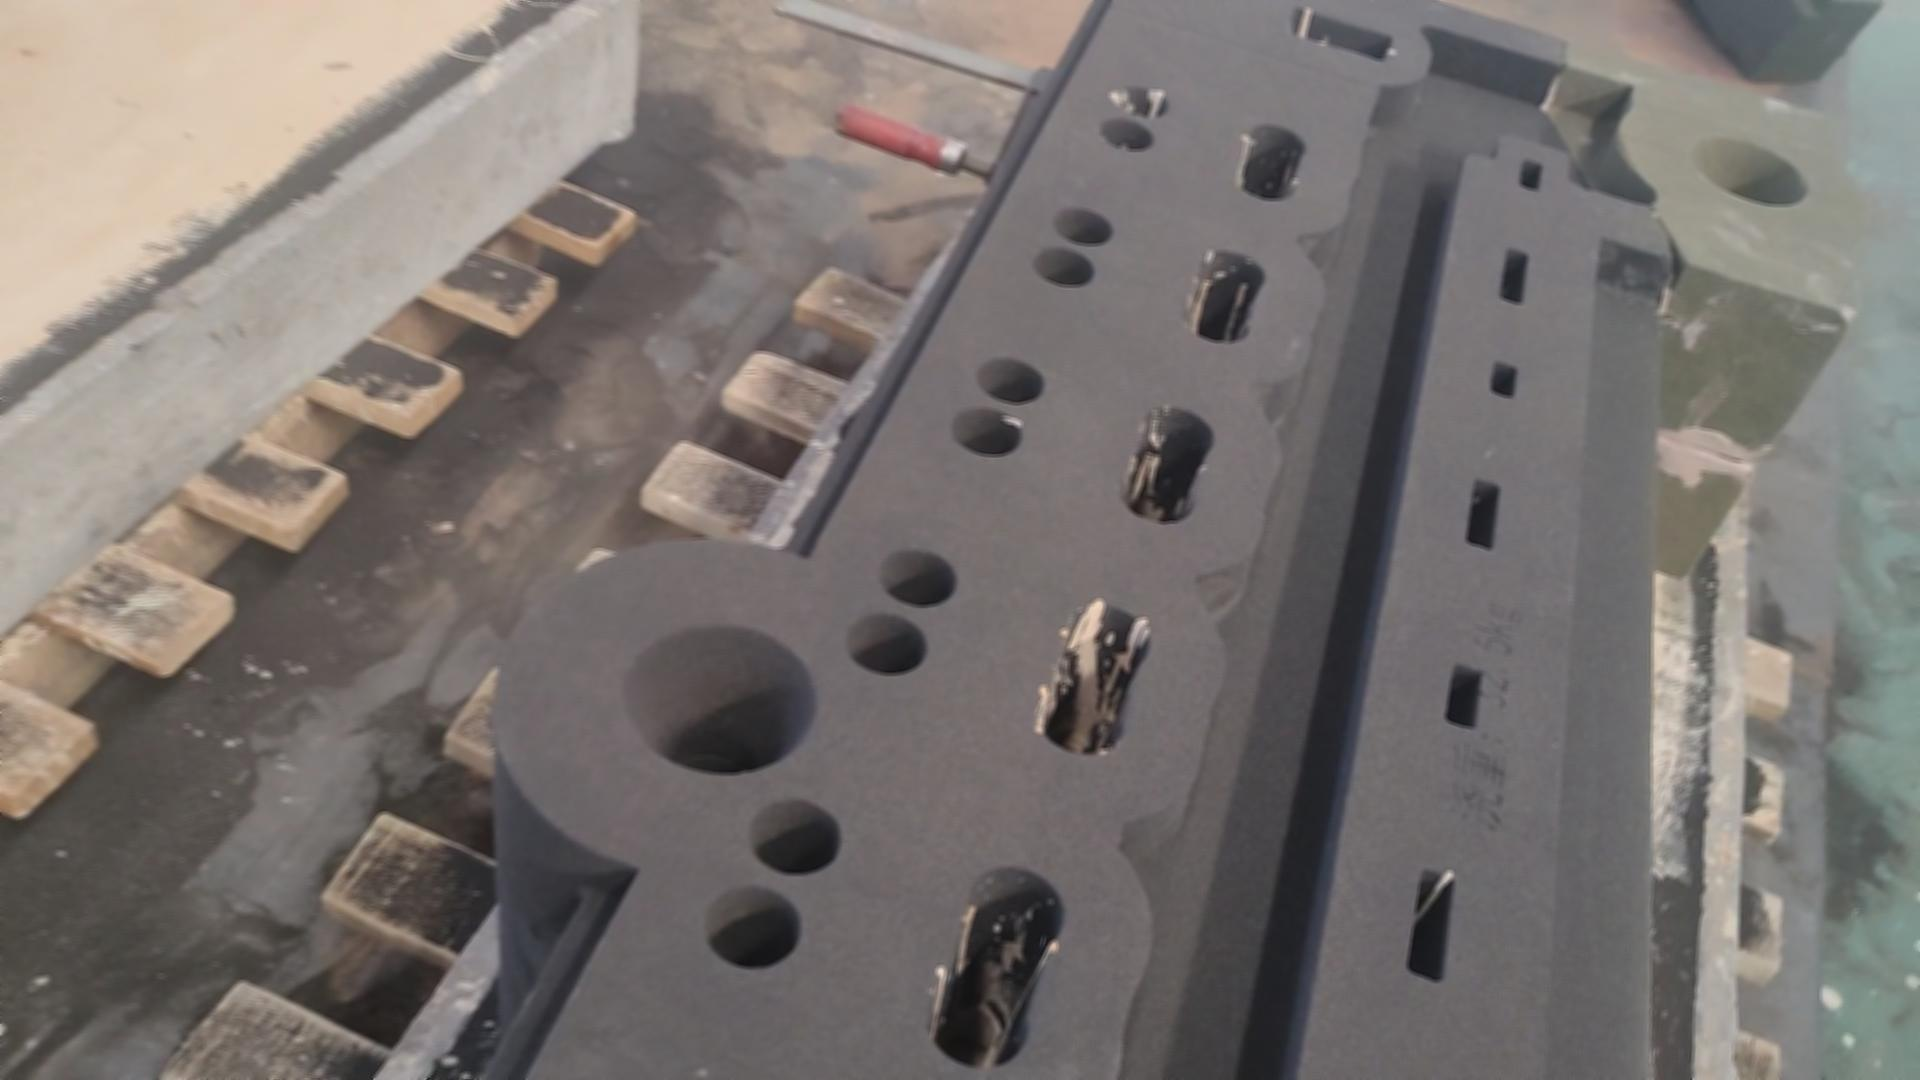pouring hole: (621, 625, 818, 775), (1689, 135, 1807, 206)
